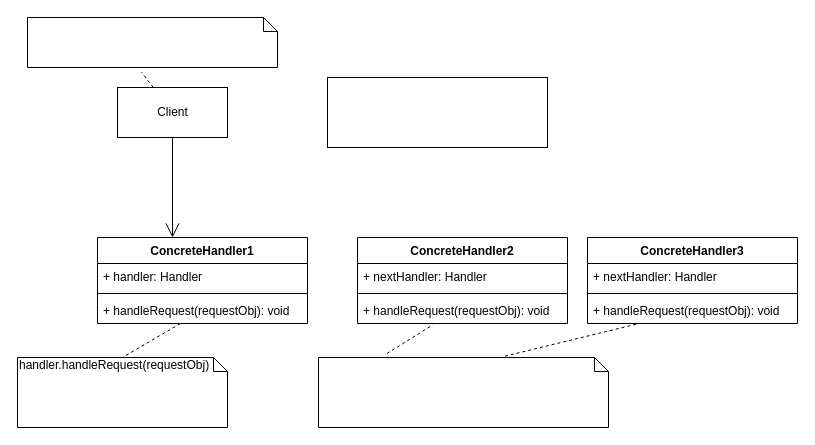
Image size: 815x445. Some labels were removed from this diagram. The box of each missing label's shape, as (x1, y1, x2, y2) in pixels:
<<Interface>> Handler + handleRequest(requestObj): void: (326, 76, 548, 148)
Handler h = new ConcreteHandler1() h. handleRequest (requestObj): (26, 16, 278, 68)
if I can handle it // handle else nextHandler.handleRequest(requestObj): (318, 356, 608, 428)
